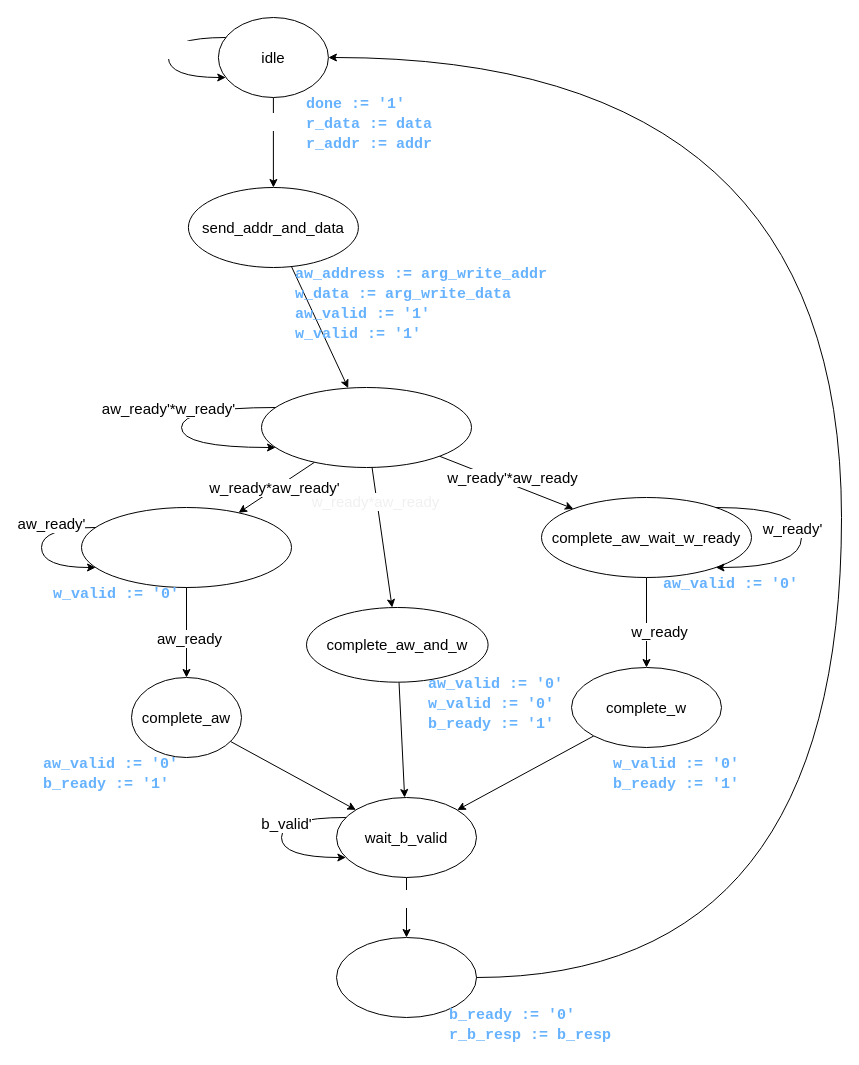
The diagram is 859 pixels wide and 1065 high, and some of its shapes have lost their labels. Here are the shapes that lost their labels. From the top down, the centre of each, then its label:
pixel 366 427: wait_aw_ready_or_w_ready
pixel 186 547: complete_w_wait_aw_ready
pixel 406 977: process_b_resp
